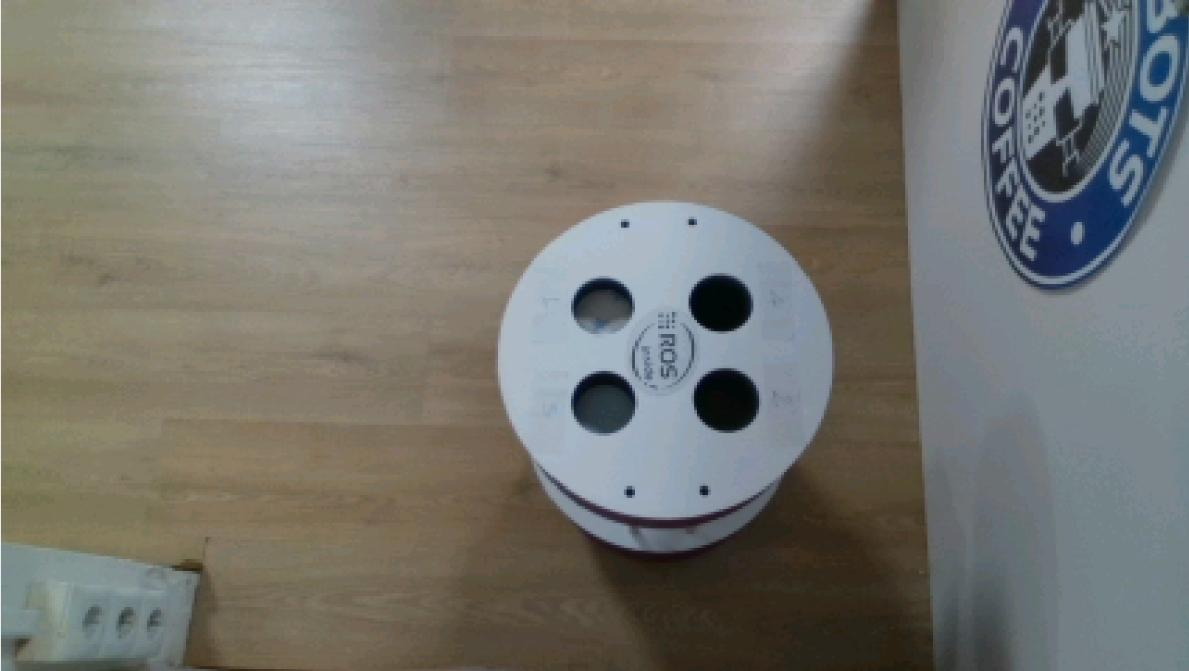hole: (564, 369, 639, 440), (690, 361, 763, 433), (684, 269, 758, 336), (568, 272, 638, 339)
